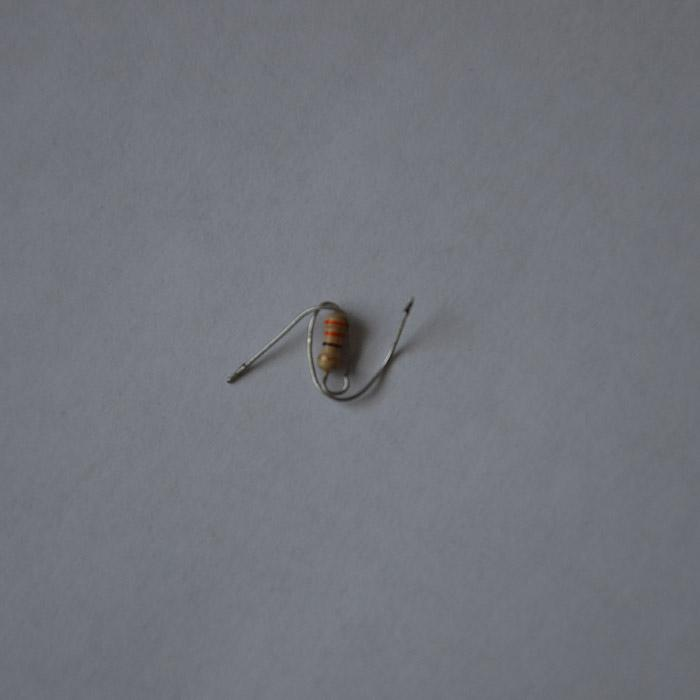resistor: (318, 309, 348, 371)
